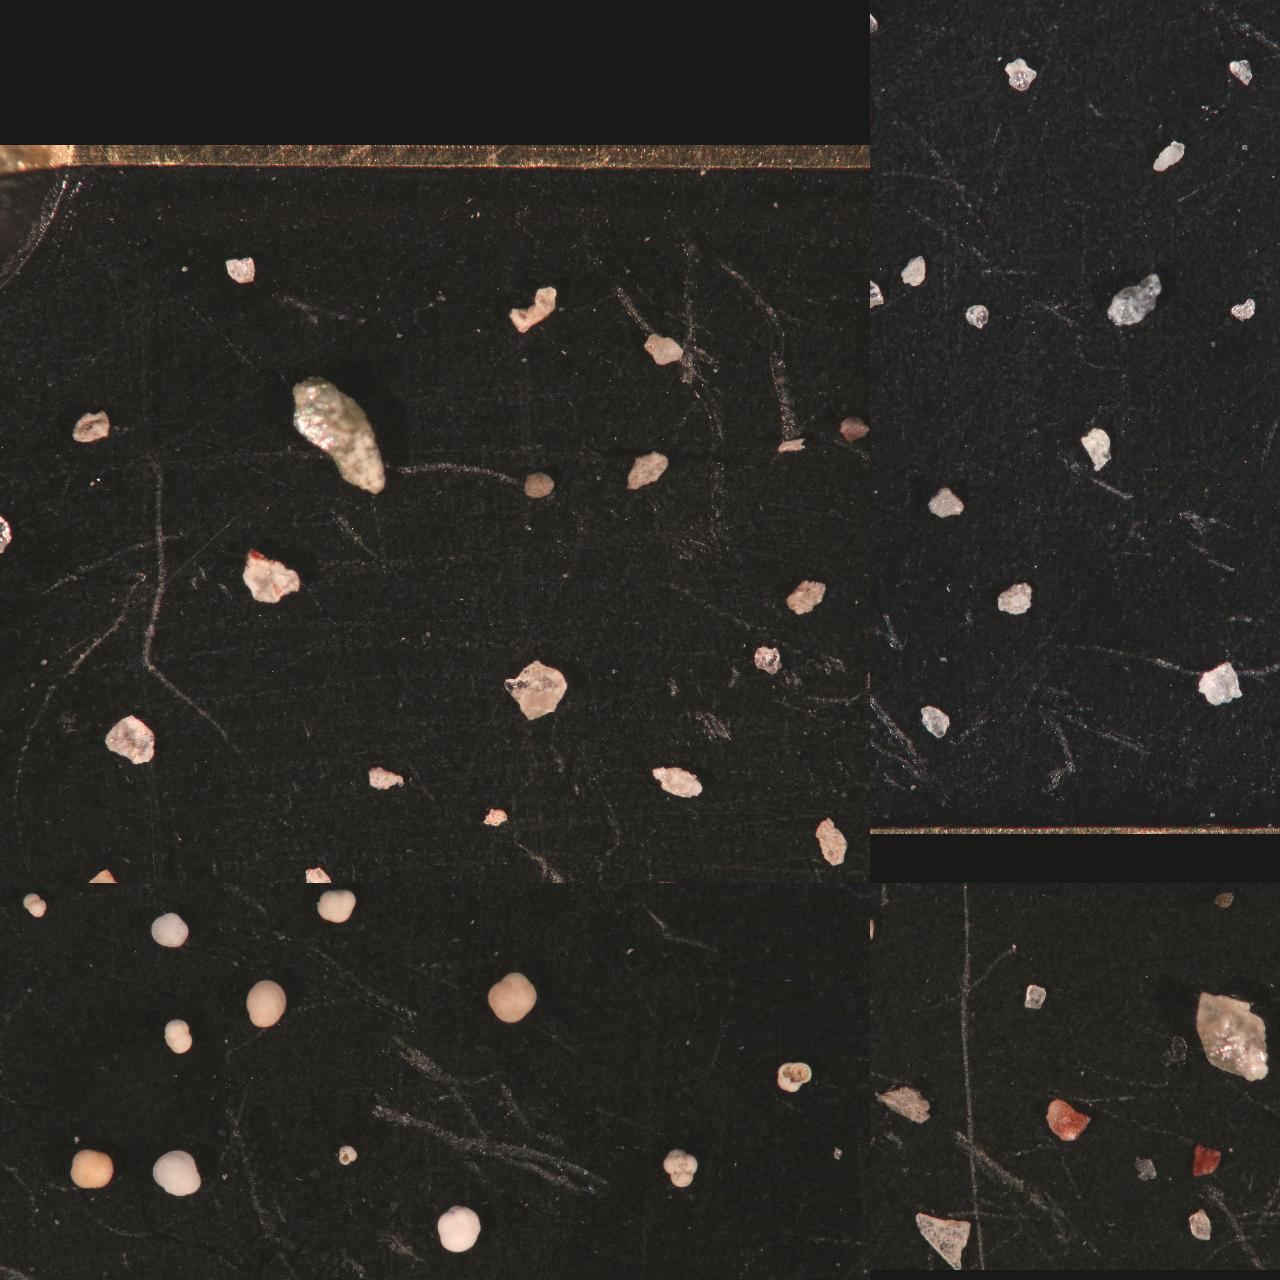Sediment: (291, 377, 388, 493), (1194, 989, 1269, 1083), (870, 1034, 924, 1122), (501, 659, 568, 723), (913, 1211, 973, 1269), (241, 549, 301, 604), (1104, 272, 1164, 327), (870, 1010, 908, 1082), (102, 714, 156, 764), (873, 1082, 931, 1124), (508, 286, 557, 334), (1196, 660, 1244, 704), (1044, 1098, 1091, 1142), (870, 731, 906, 783), (624, 449, 668, 490), (870, 956, 900, 1016), (813, 817, 849, 867), (651, 764, 703, 797), (1080, 427, 1115, 474), (870, 45, 900, 97), (784, 579, 828, 615), (68, 409, 111, 444), (641, 331, 685, 365), (995, 581, 1035, 615), (925, 883, 971, 912), (1002, 56, 1040, 91), (1189, 1143, 1224, 1179), (926, 486, 967, 517), (870, 1117, 893, 1169), (870, 883, 899, 924), (919, 704, 953, 740), (1150, 141, 1186, 171), (870, 154, 896, 196), (870, 604, 890, 658), (1055, 883, 1095, 908), (751, 644, 783, 674), (898, 254, 928, 286), (366, 765, 407, 789), (522, 470, 554, 498), (837, 415, 870, 443), (870, 911, 890, 956), (1058, 883, 1103, 903), (1187, 1207, 1213, 1241), (225, 256, 256, 284), (1225, 57, 1255, 86), (1131, 1156, 1159, 1185), (1189, 883, 1234, 900), (1228, 295, 1260, 320), (1073, 883, 1111, 903), (84, 867, 134, 883), (924, 883, 964, 901), (964, 302, 990, 329), (1022, 982, 1048, 1010), (0, 513, 18, 554), (870, 0, 891, 34), (1208, 883, 1255, 898), (870, 939, 888, 976), (870, 97, 885, 143), (870, 883, 897, 908), (870, 883, 903, 903), (870, 886, 888, 920), (870, 1142, 885, 1183), (481, 808, 509, 829), (870, 883, 893, 907), (870, 279, 888, 309), (775, 436, 806, 454), (870, 377, 888, 407), (870, 1191, 886, 1224), (302, 865, 333, 883), (870, 495, 888, 522), (870, 883, 896, 901), (870, 424, 886, 454), (870, 0, 894, 19), (870, 883, 894, 901), (870, 883, 896, 900), (870, 109, 887, 134), (870, 602, 884, 633), (968, 883, 1000, 896), (870, 348, 888, 369), (870, 883, 888, 903), (870, 883, 892, 899), (870, 0, 888, 18), (870, 342, 883, 367), (870, 545, 881, 568), (870, 883, 885, 897), (870, 883, 884, 897)
planktic: (485, 971, 539, 1024), (434, 1203, 483, 1253), (151, 1149, 203, 1197), (244, 978, 288, 1029), (68, 1146, 116, 1190), (660, 1146, 702, 1189), (148, 911, 190, 949), (315, 886, 359, 924), (774, 1060, 813, 1092), (162, 1017, 196, 1055), (0, 1184, 26, 1232), (260, 883, 306, 905), (0, 962, 23, 1006), (0, 1073, 21, 1114), (546, 883, 587, 904), (20, 891, 50, 919), (334, 1143, 360, 1167), (658, 883, 689, 896)
